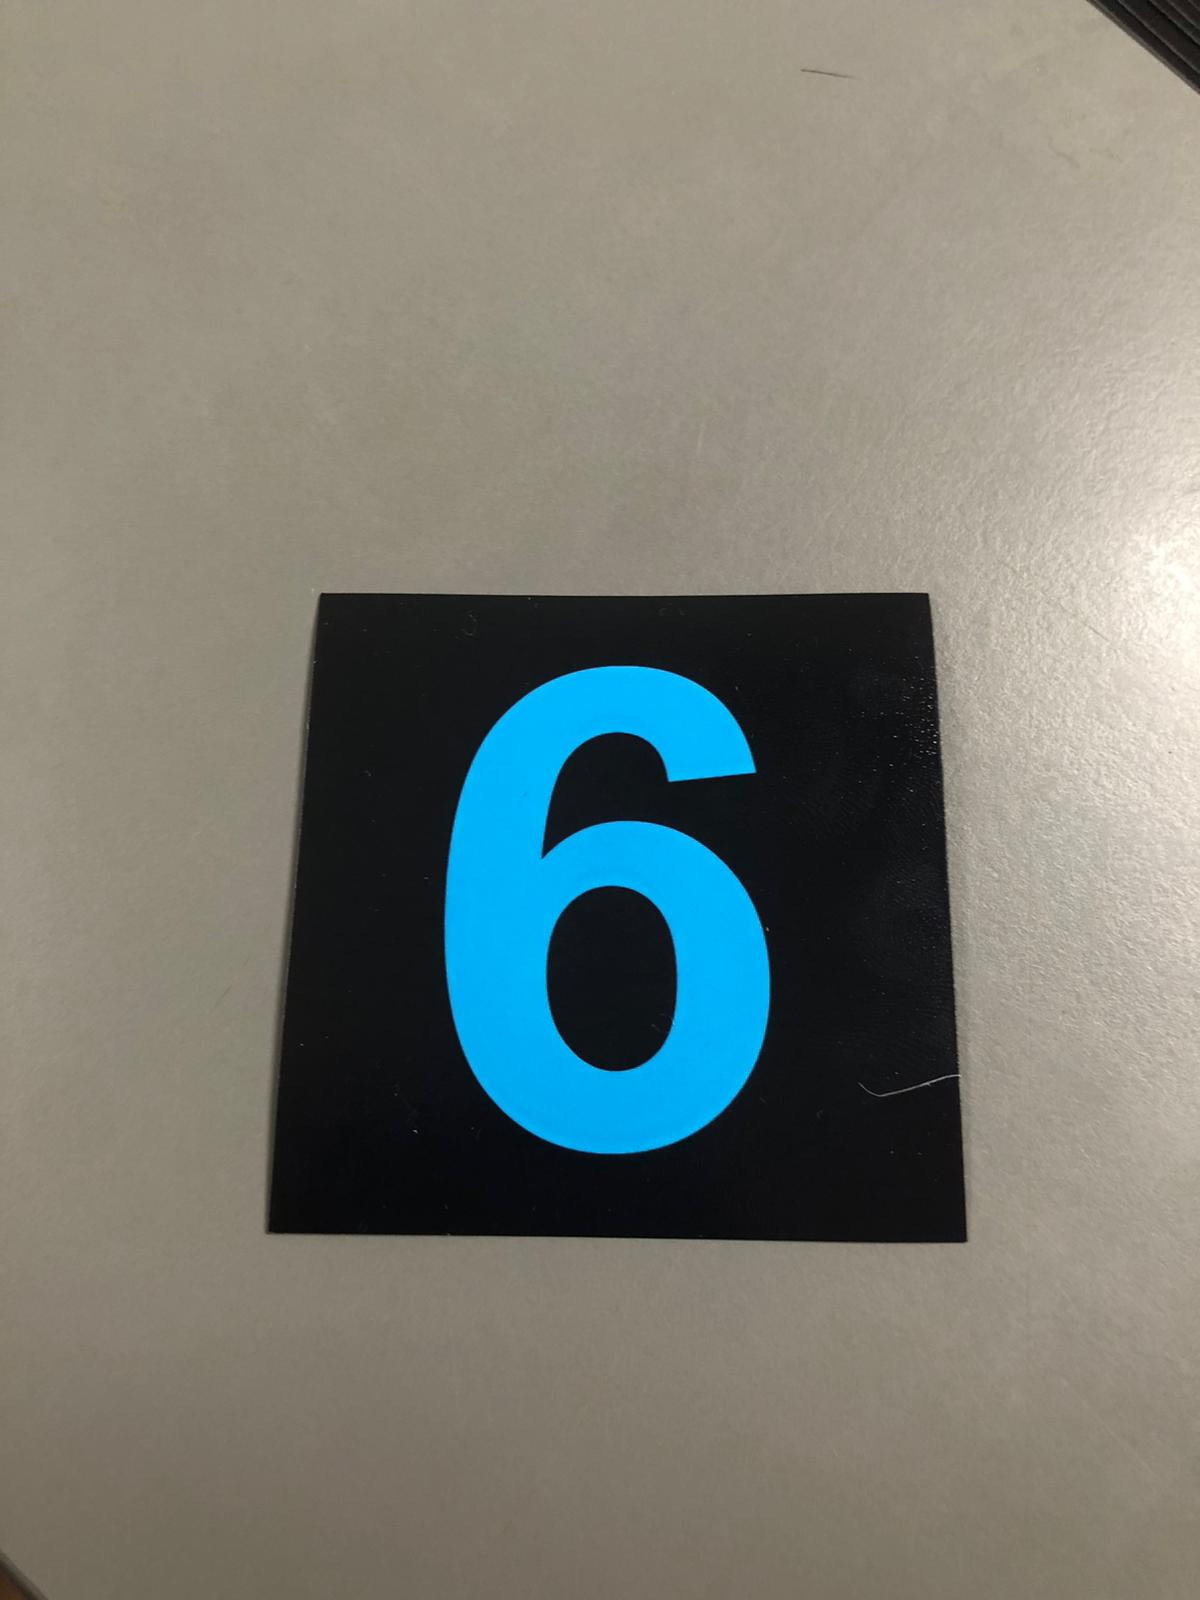Number 6: (310, 605, 926, 1212)
